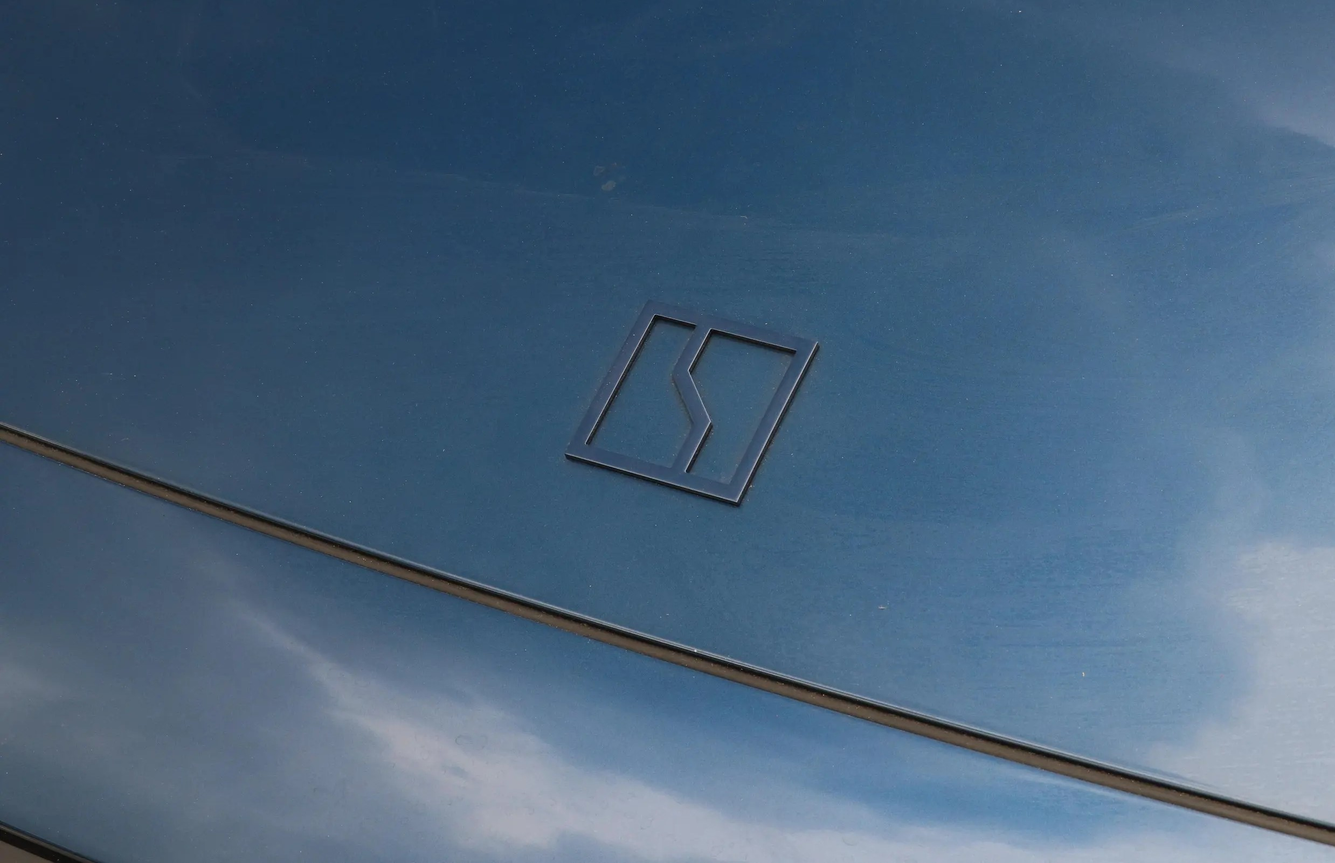ZEEKR: (565, 300, 818, 505)
